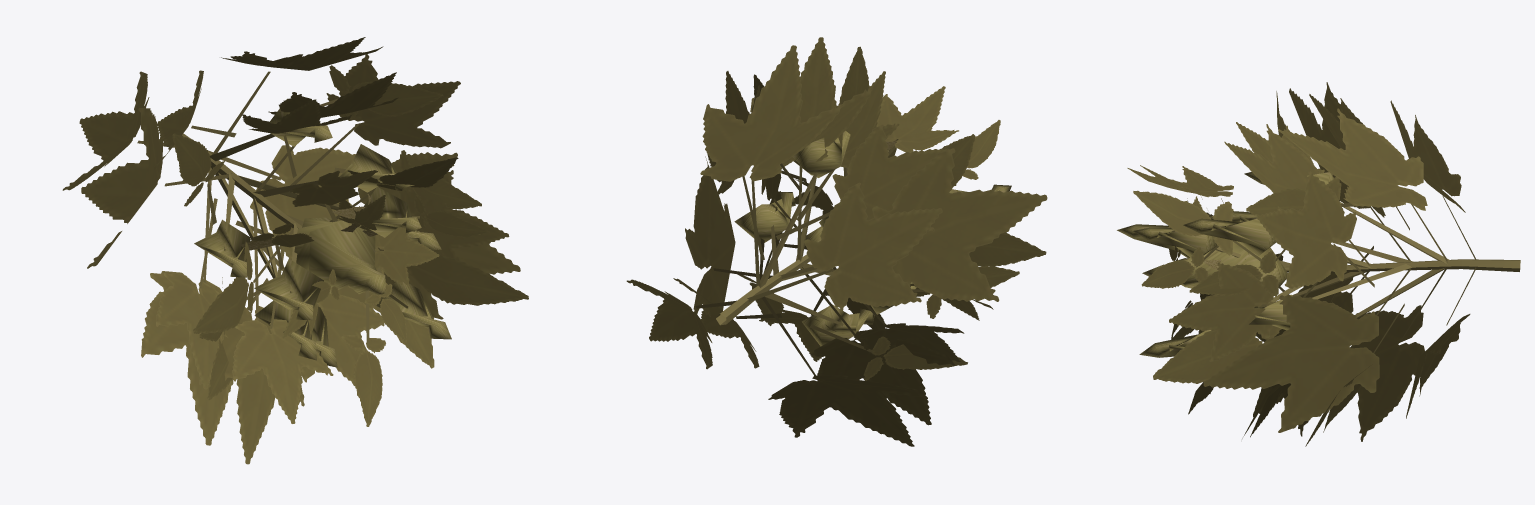
File: p_afghan_flowering_c2_cards.obj
The picture shows the model from 3 angles, left to right: view 1: azimuth 30°, elevation 25°; view 2: azimuth 150°, elevation 25°; view 3: azimuth 270°, elevation 25°; orthographic projection. The views are drawn at different scales.
Bounding box in the file's own units: 1.52 × 1.46 × 1.25.
Materials: 1 (1 with a texture image).
